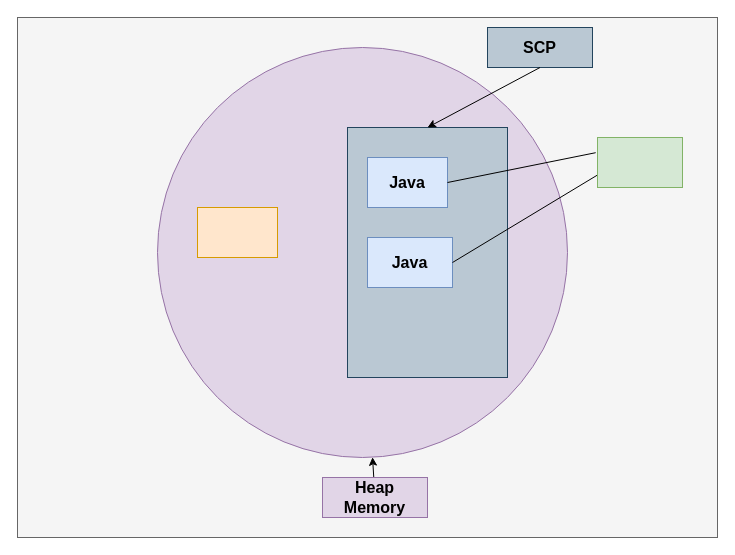
Image size: 735x555. Some labels were removed from this diagram. The centre of each missing label's shape, as x and y in pixels:
"word1" goes at point 639,162.
"word3" goes at point 237,232.
